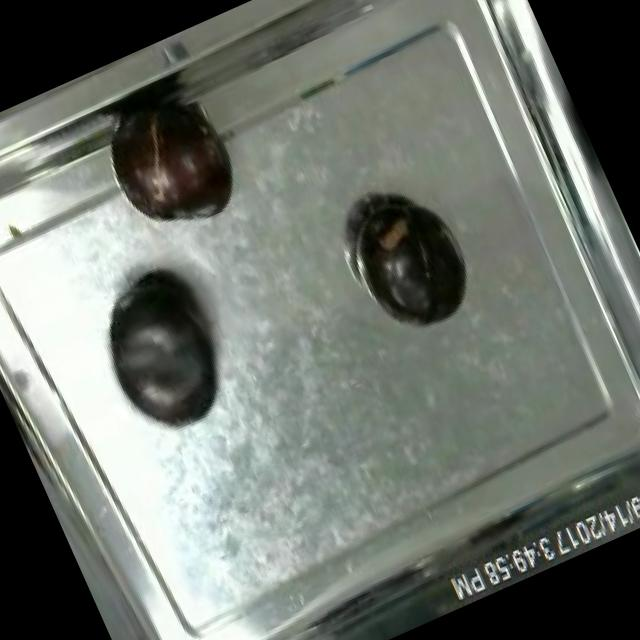Fruit: (74, 253, 252, 454), (96, 90, 255, 250), (349, 190, 488, 344)
